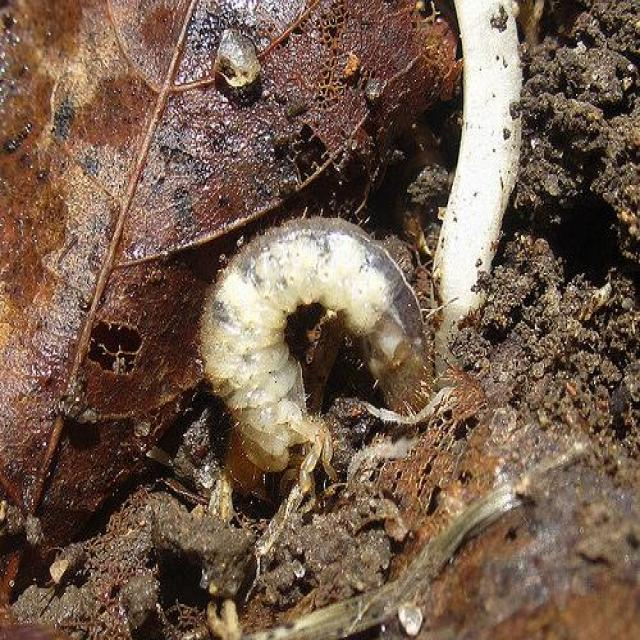Grub-Adult-: (159, 190, 456, 514)
